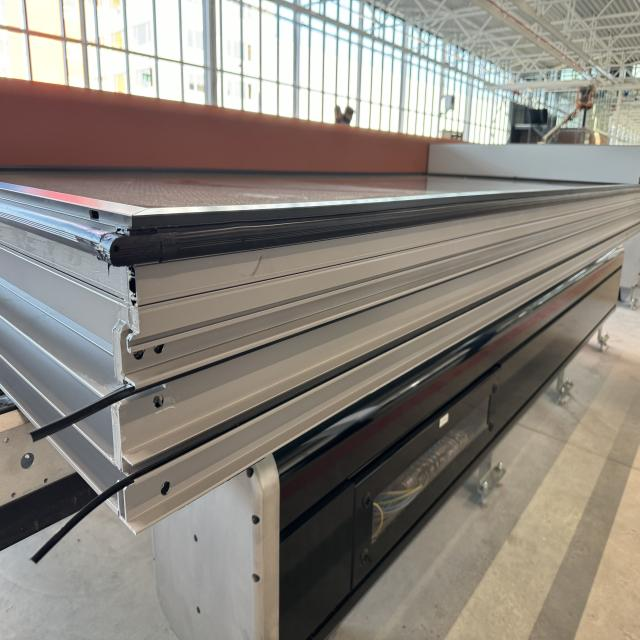ok: (1, 80, 639, 538)
